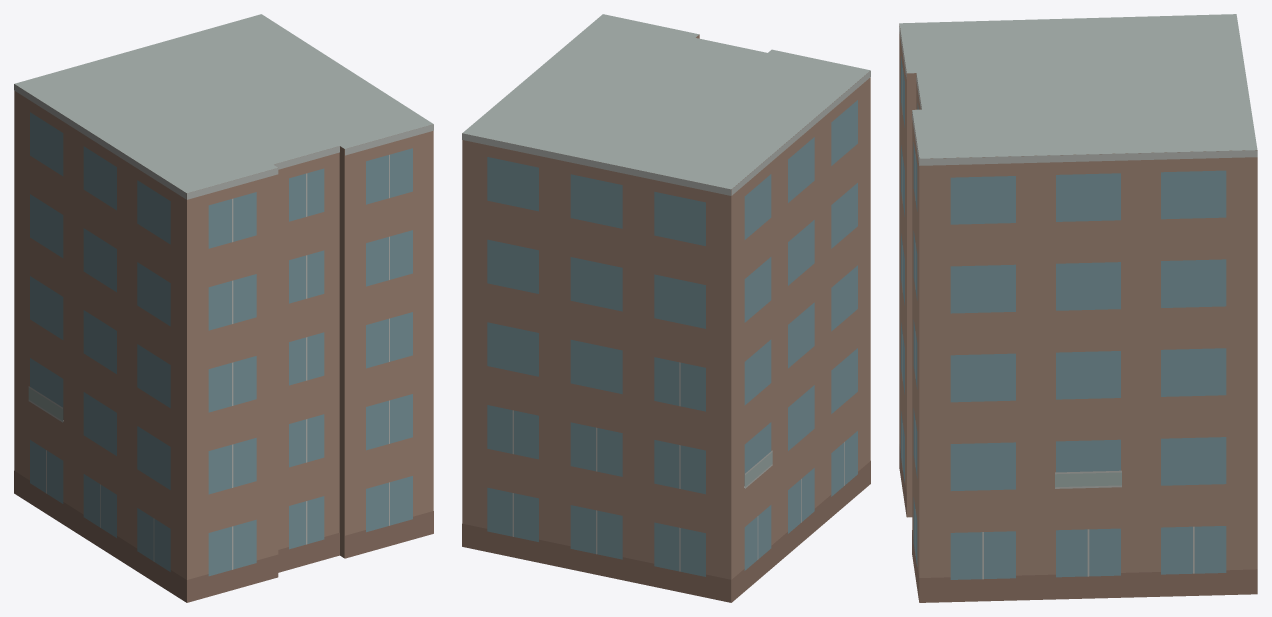
File: survey-upis-32531854.glb
3 renders of one model, left to right at view 1: azimuth 30°, elevation 25°; view 2: azimuth 150°, elevation 25°; view 3: azimuth 270°, elevation 25°, orthographic. The views are drawn at different scales.
Parts seen in each view (by area): view 1: survey-upis-32531854.tmp; view 2: survey-upis-32531854.tmp; view 3: survey-upis-32531854.tmp.
Boxes of the visible parts, x1,y1,x2,y2 form: survey-upis-32531854.tmp: [14, 14, 433, 602]; survey-upis-32531854.tmp: [462, 14, 870, 602]; survey-upis-32531854.tmp: [899, 14, 1257, 602].
Bounding box in the file's own units: 10.67 × 15.25 × 11.15.
